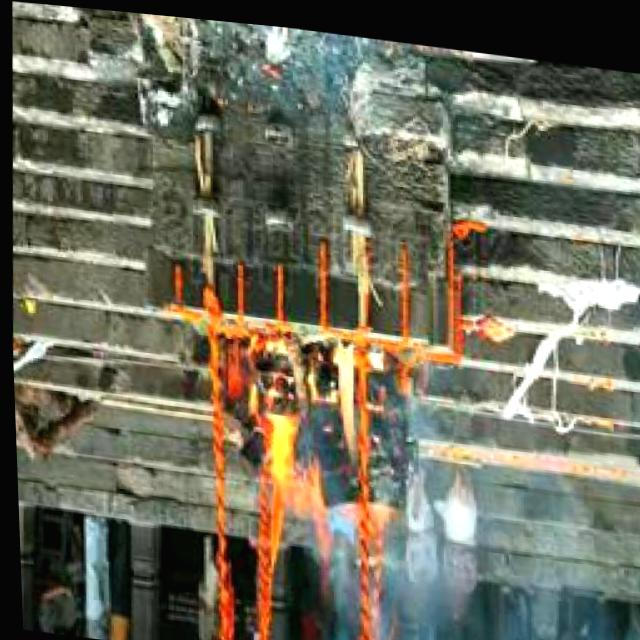helmet: (256, 323, 369, 547)
